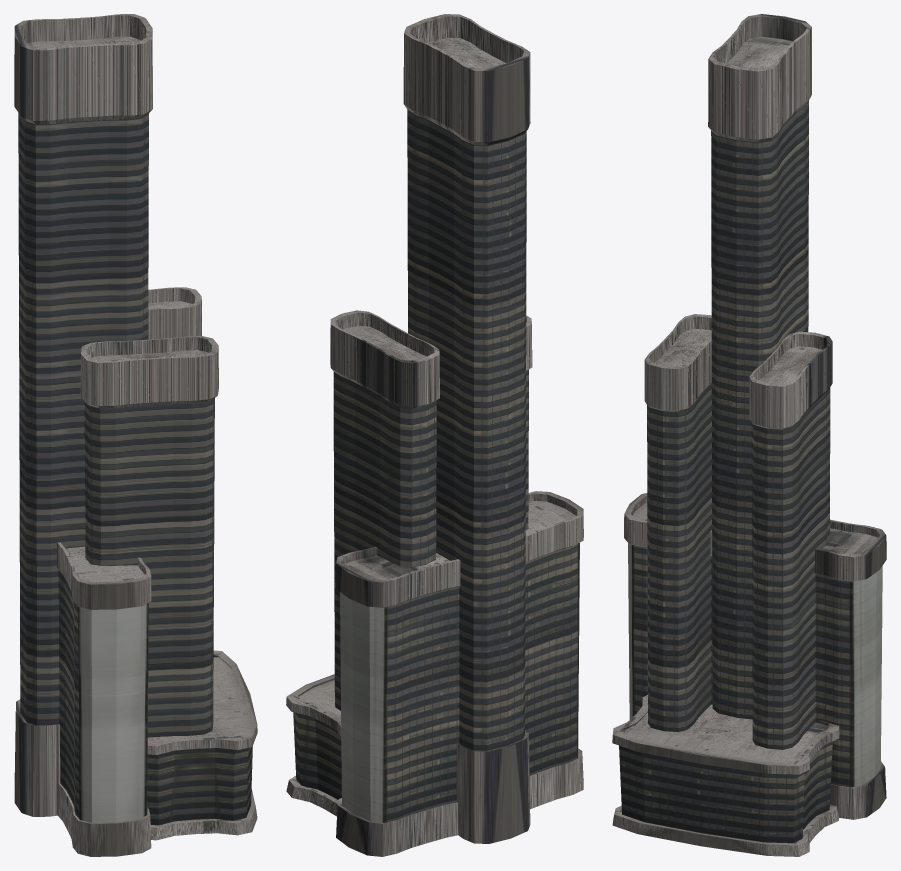
Rendered from Building03.FBX.
3 renders of one model, left to right at view 1: azimuth 30°, elevation 25°; view 2: azimuth 150°, elevation 25°; view 3: azimuth 270°, elevation 25°, orthographic. The views are drawn at different scales.
Visible parts, largest first — view 1: polySurface1815; view 2: polySurface1815; view 3: polySurface1815.
Boxes of the visible parts, bbox=[...] form: polySurface1815: bbox=[14, 14, 257, 856]; polySurface1815: bbox=[286, 14, 583, 856]; polySurface1815: bbox=[612, 14, 886, 856].
Size of the model in its own units: 227 by 755 by 254.
Materials: 2 (2 with a texture image).
